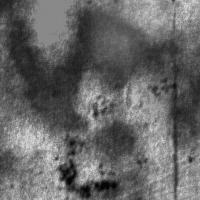patches: (6, 6, 163, 131), (0, 0, 99, 114), (81, 0, 175, 78), (134, 32, 200, 122), (91, 120, 142, 199), (55, 148, 116, 195)
